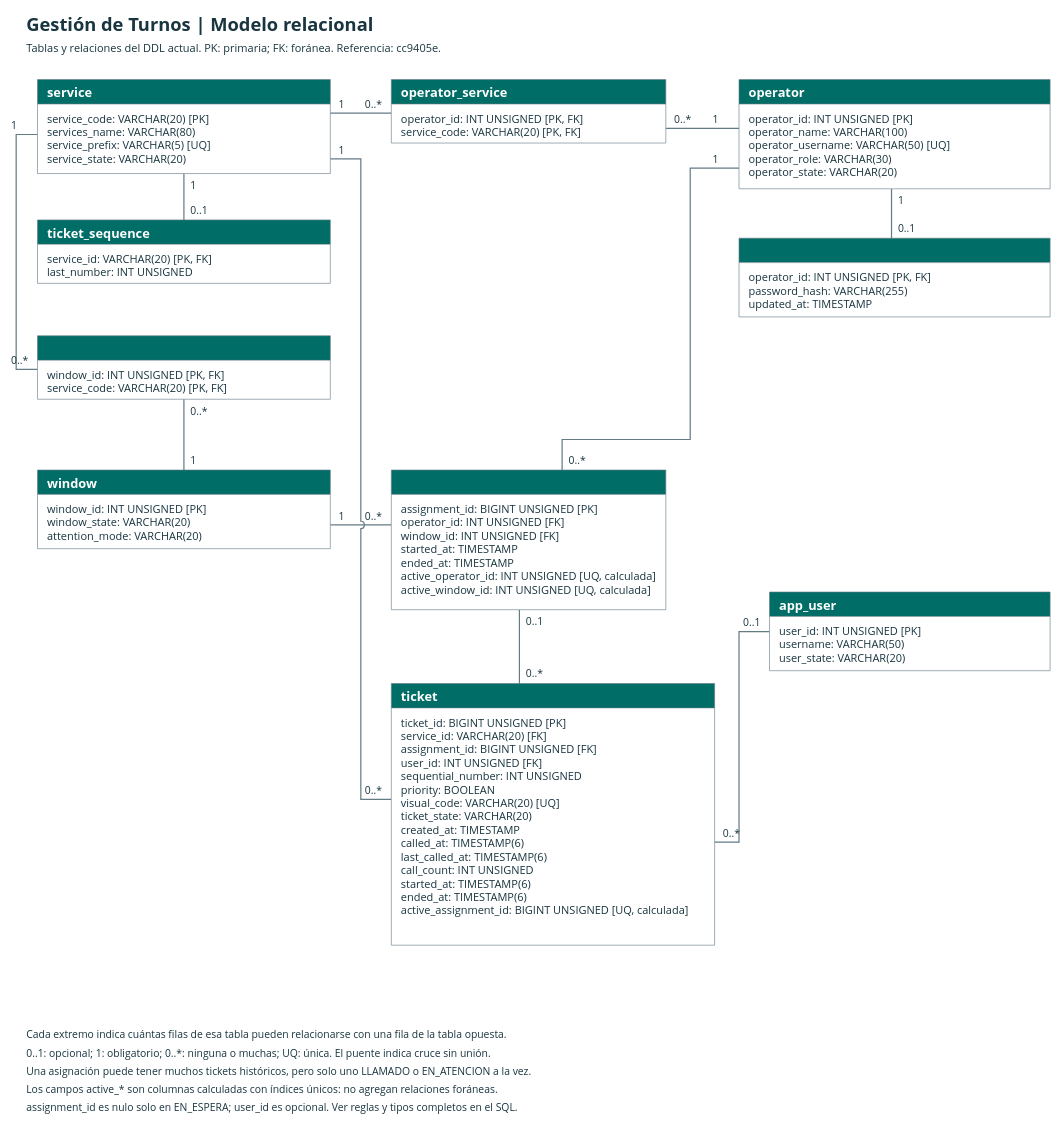
Some shapes in this 1060 by 1125 pixel diagram are drawn without their labels. The box of each missing label's shape, as (x1, y1, x2, y2) in pixels:
operator_credential: (738, 238, 1050, 317)
operator_window_assignment: (391, 469, 666, 610)
window_service: (37, 335, 330, 399)
